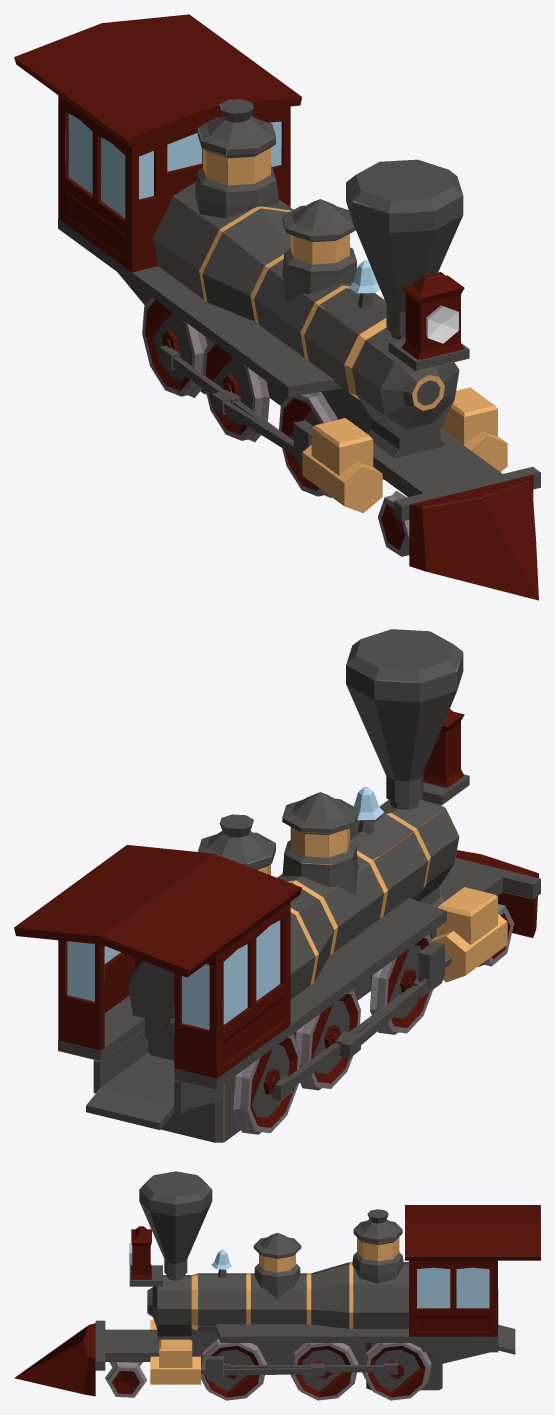
The model's file is TrainHead.glb.
3 renders of one model, top to bottom at view 1: azimuth 30°, elevation 25°; view 2: azimuth 150°, elevation 25°; view 3: azimuth 270°, elevation 25°, orthographic. The views are drawn at different scales.
Visible parts, largest first — view 1: locomotive-western-base; view 2: locomotive-western-base; view 3: locomotive-western-base.
Boxes of the visible parts, x1,y1,x2,y2 form: locomotive-western-base: (14, 14, 540, 600); locomotive-western-base: (14, 629, 540, 1142); locomotive-western-base: (14, 1171, 540, 1400).
Size of the model in its own units: 2.72 by 5.01 by 11.74.
Materials: 1 (1 with a texture image).
